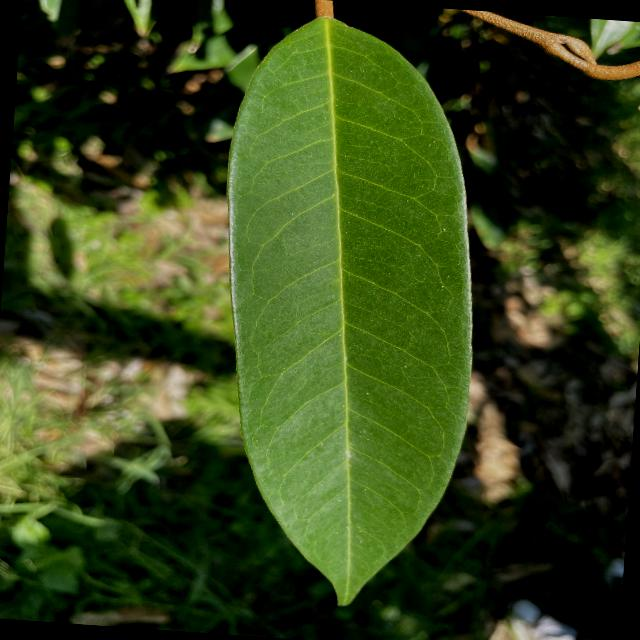No Disease: (185, 6, 506, 619)
